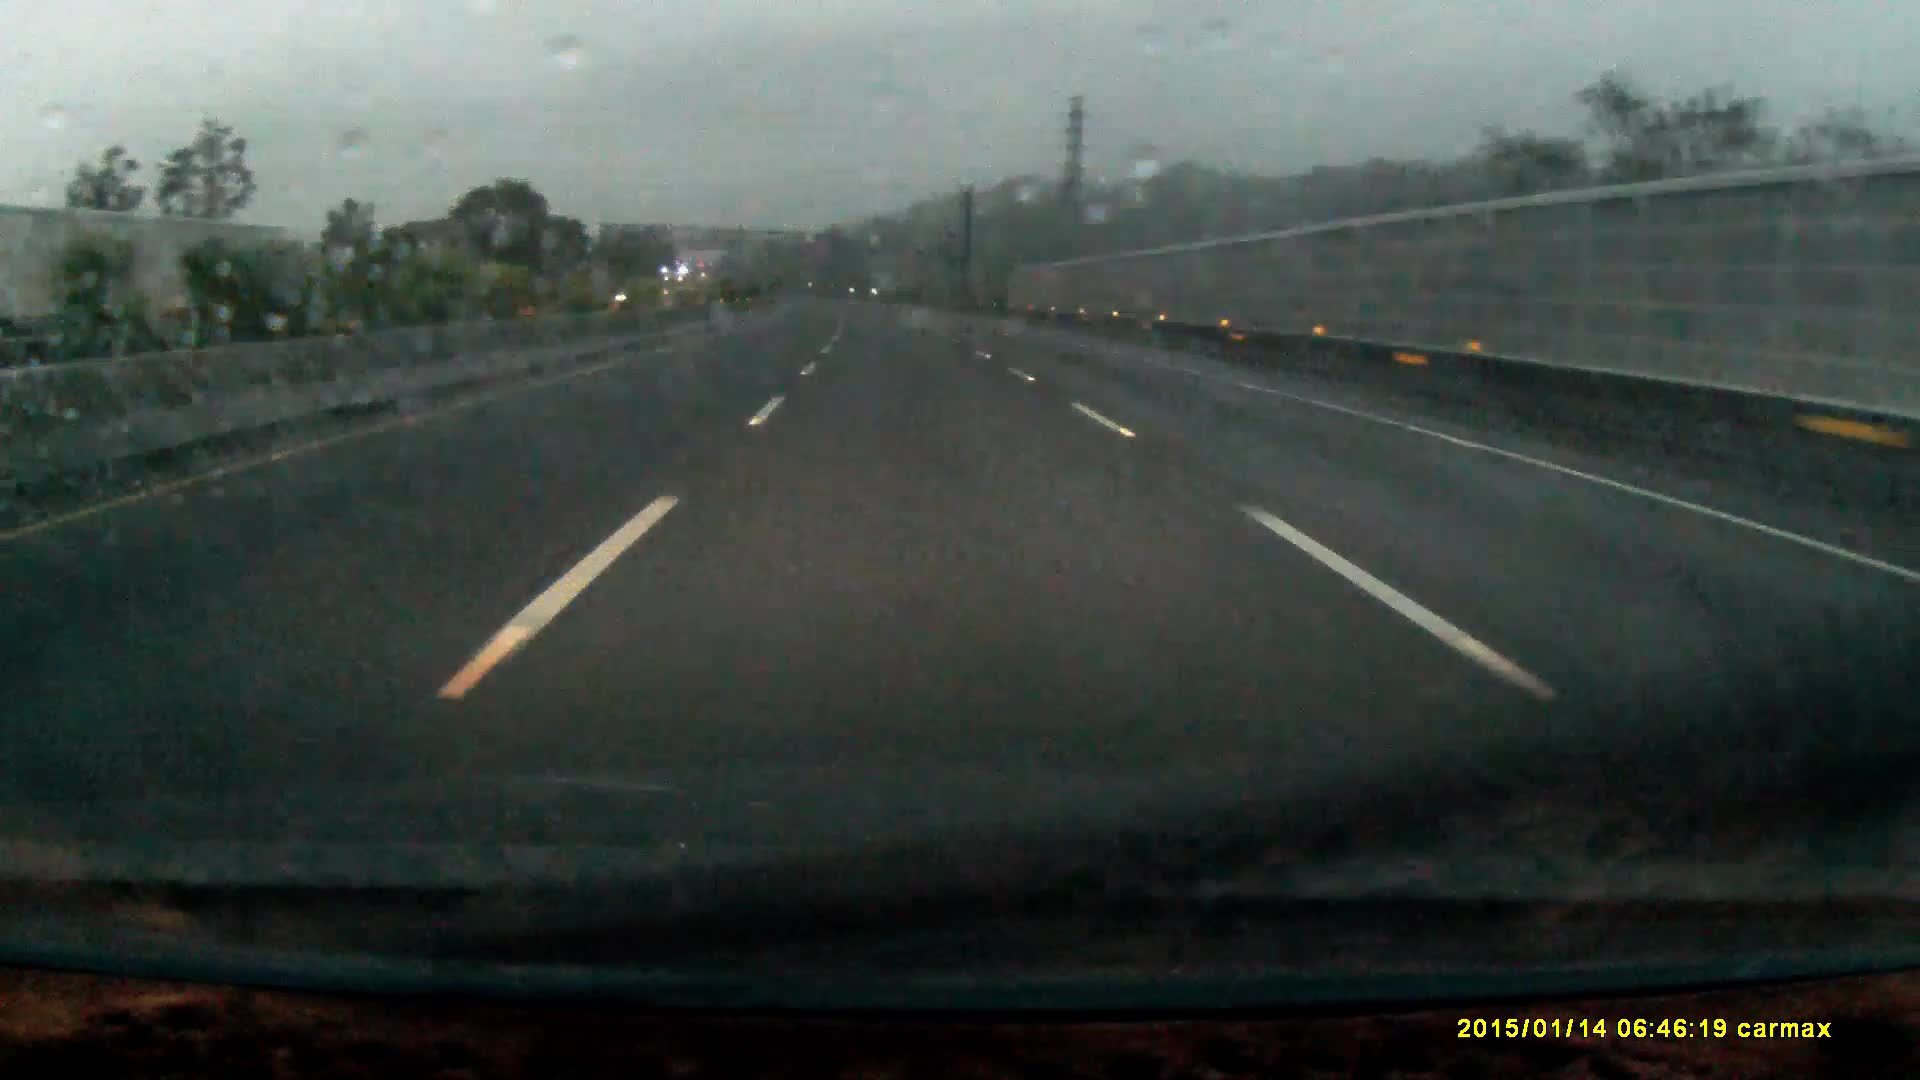vehicle: (659, 268, 696, 303)
